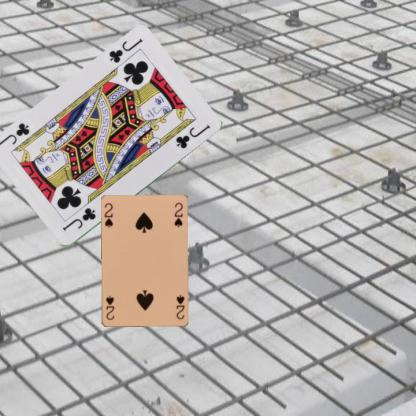2s: (102, 200, 115, 229), (174, 292, 185, 321)
Jc: (106, 36, 144, 65), (60, 205, 98, 232)
